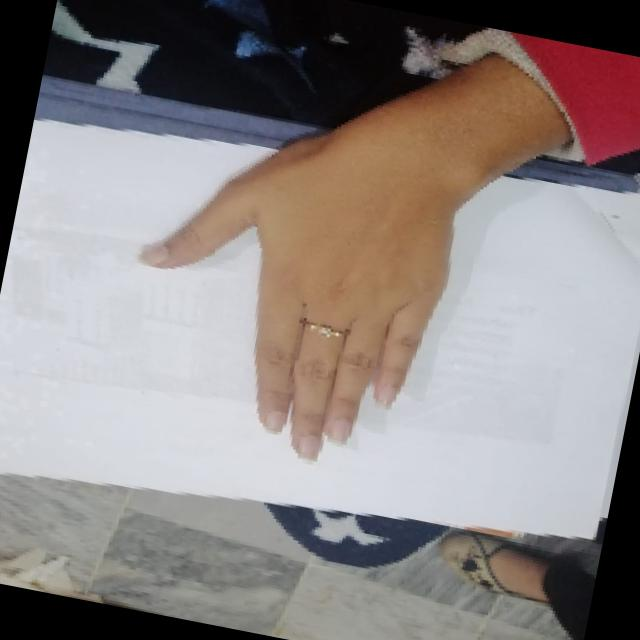Nail: (139, 242, 168, 266), (296, 434, 321, 461), (329, 418, 352, 443), (263, 409, 284, 433), (374, 389, 396, 411)
